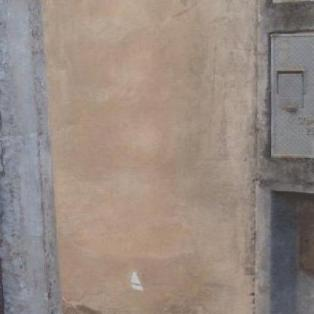Poste: (0, 1, 106, 313)
